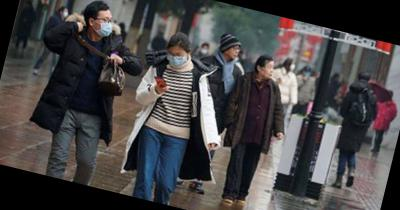with_mask: (93, 12, 116, 41), (164, 48, 188, 70), (200, 45, 210, 55), (303, 68, 313, 78), (289, 60, 297, 72), (62, 8, 70, 19)
without_mask: (261, 62, 276, 81), (227, 43, 242, 61)
